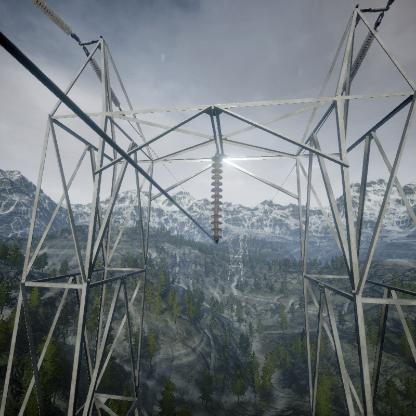insulator: (350, 26, 379, 81), (91, 54, 119, 108), (208, 153, 225, 239), (32, 0, 73, 35)
